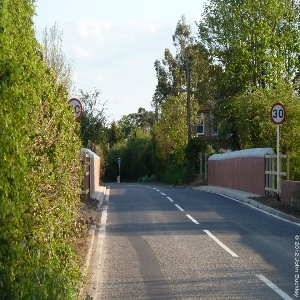20 speed: (66, 98, 82, 120)
30 speed: (270, 103, 286, 124)
